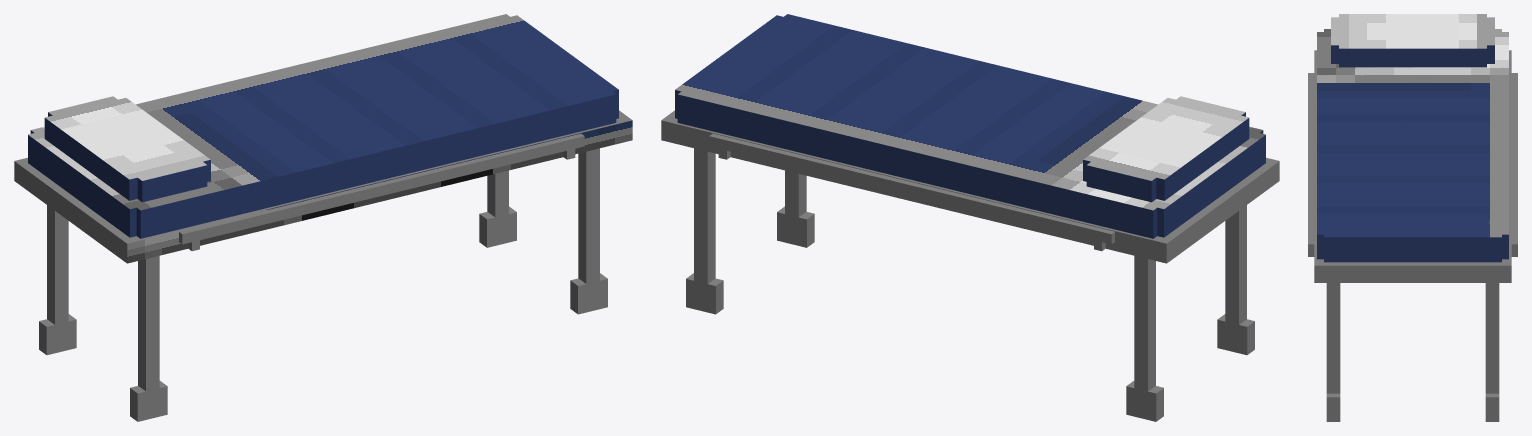
Rendered from emergency_stretcher.glb.
The picture shows the model from 3 angles, left to right: view 1: azimuth 30°, elevation 25°; view 2: azimuth 150°, elevation 25°; view 3: azimuth 270°, elevation 25°; orthographic projection. The views are drawn at different scales.
Visible parts, largest first — view 1: emergency_stretcher_Mattress, emergency_stretcher_Stretcher_Frame, emergency_stretcher_Pillow, emergency_stretcher, emergency_stretcher_Caster_-1_-1, emergency_stretcher_Caster_1_-1; view 2: emergency_stretcher_Mattress, emergency_stretcher_Stretcher_Frame, emergency_stretcher_Pillow, emergency_stretcher, emergency_stretcher_Caster_1_-1, emergency_stretcher_Caster_-1_-1; view 3: emergency_stretcher_Mattress, emergency_stretcher_Stretcher_Frame, emergency_stretcher_Pillow, emergency_stretcher, emergency_stretcher_Caster_1_-1.
Boxes of the visible parts, x1,y1,x2,y2 form: emergency_stretcher_Mattress: (28, 14, 618, 238); emergency_stretcher_Stretcher_Frame: (14, 110, 632, 399); emergency_stretcher_Pillow: (44, 96, 210, 202); emergency_stretcher: (39, 206, 516, 355); emergency_stretcher_Caster_-1_-1: (130, 381, 167, 421); emergency_stretcher_Caster_1_-1: (570, 273, 607, 314); emergency_stretcher_Mattress: (675, 14, 1265, 238); emergency_stretcher_Stretcher_Frame: (661, 110, 1279, 399); emergency_stretcher_Pillow: (1083, 96, 1249, 202); emergency_stretcher: (686, 273, 1163, 421); emergency_stretcher_Caster_1_-1: (777, 206, 814, 247); emergency_stretcher_Caster_-1_-1: (1217, 314, 1254, 355); emergency_stretcher_Mattress: (1317, 29, 1508, 262); emergency_stretcher_Stretcher_Frame: (1308, 50, 1517, 393); emergency_stretcher_Pillow: (1331, 14, 1494, 67); emergency_stretcher: (1485, 393, 1499, 421); emergency_stretcher_Caster_1_-1: (1326, 393, 1340, 421).
Size of the model in its own units: 1.86 by 0.835 by 0.766.
Materials: 1 (1 with a texture image).
